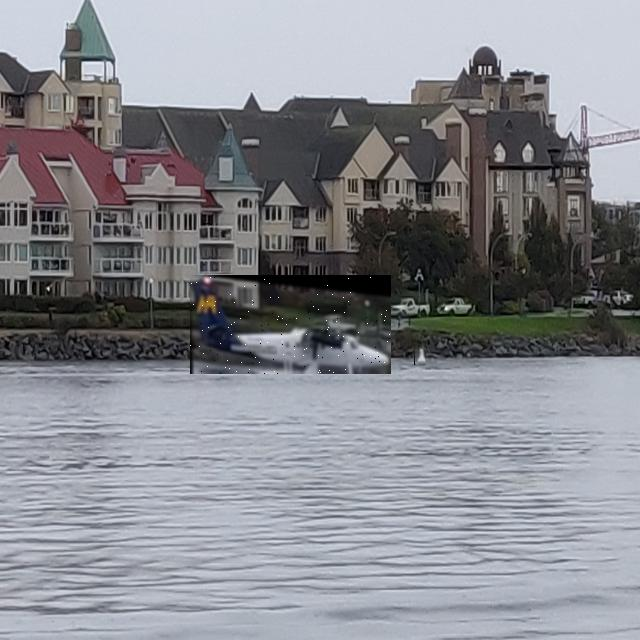aircraft: (190, 275, 391, 374)
mark: (414, 346, 426, 365)
